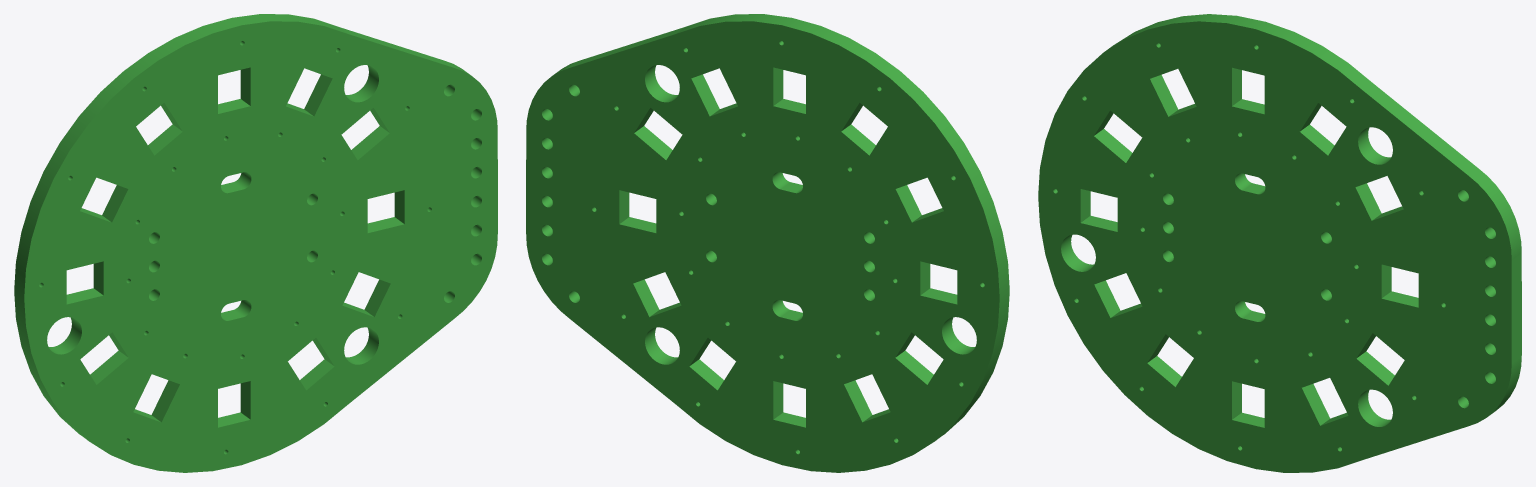
File: TopEncoderMod v6 - Adapter.fbx
3 renders of one model, left to right at view 1: azimuth 30°, elevation 25°; view 2: azimuth 150°, elevation 25°; view 3: azimuth 330°, elevation 25°, orthographic.
Parts seen in each view (by area): view 1: TopEncoderMod v6 - Adapter; view 2: TopEncoderMod v6 - Adapter; view 3: TopEncoderMod v6 - Adapter.
Boxes of the visible parts, <box> form: TopEncoderMod v6 - Adapter: <box>14,14,497,472</box>; TopEncoderMod v6 - Adapter: <box>526,14,1009,472</box>; TopEncoderMod v6 - Adapter: <box>1038,14,1521,472</box>.
Bounding box in the file's own units: 43.45 × 38.58 × 1.6.
